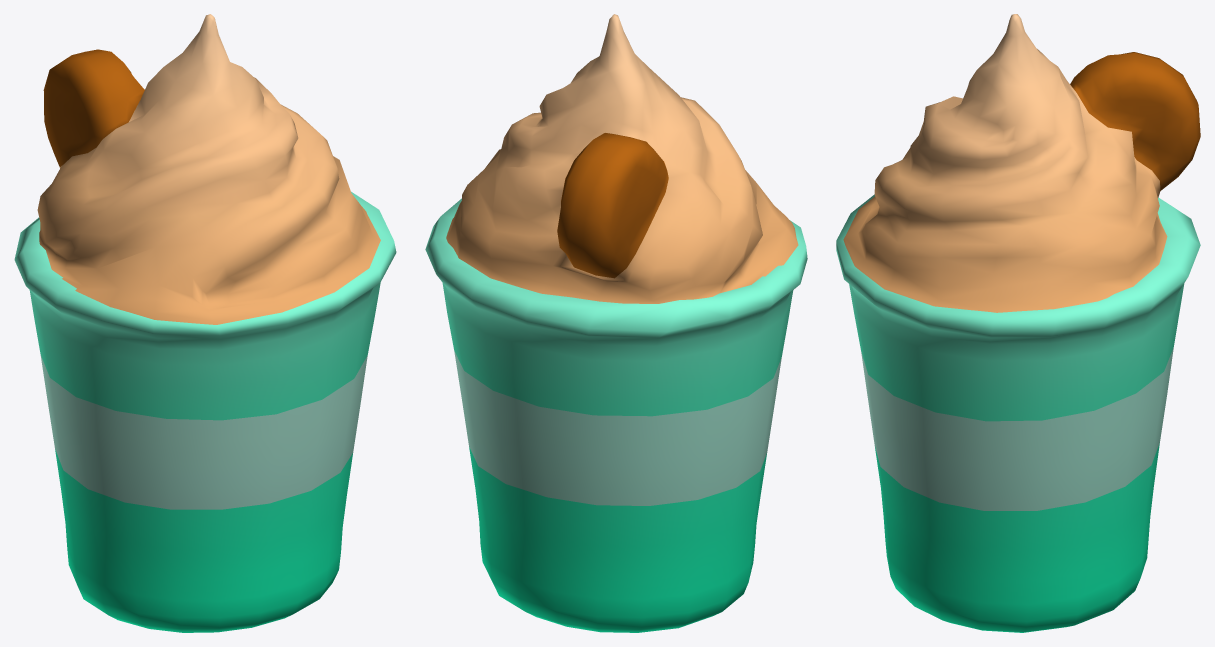
Rendered from IceCream_0001_0009.fbx.
3 views of the same model, side by side, from view 1: azimuth 30°, elevation 25°; view 2: azimuth 150°, elevation 25°; view 3: azimuth 270°, elevation 25° (orthographic).
Parts seen in each view (by area): view 1: Ice_0001_0009; view 2: Ice_0001_0009; view 3: Ice_0001_0009.
Part boxes in pixels (bbox=[...]): Ice_0001_0009: bbox=[14, 14, 396, 632]; Ice_0001_0009: bbox=[425, 14, 807, 632]; Ice_0001_0009: bbox=[836, 14, 1200, 632].
Bounding box in the file's own units: 0.084 × 0.1377 × 0.0792.
Materials: 1 (1 with a texture image).
